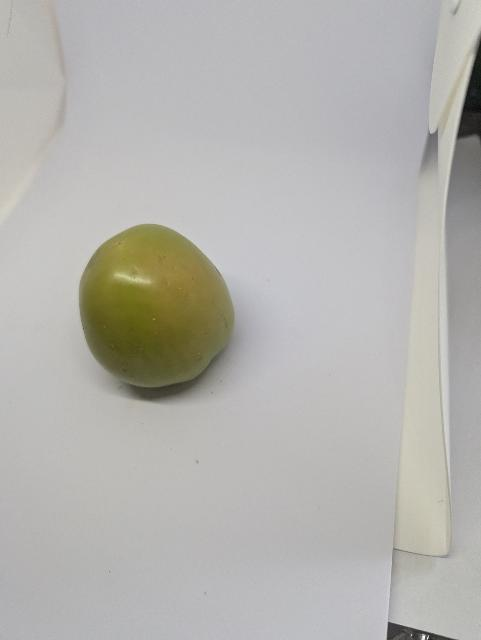green: (68, 220, 245, 400)
